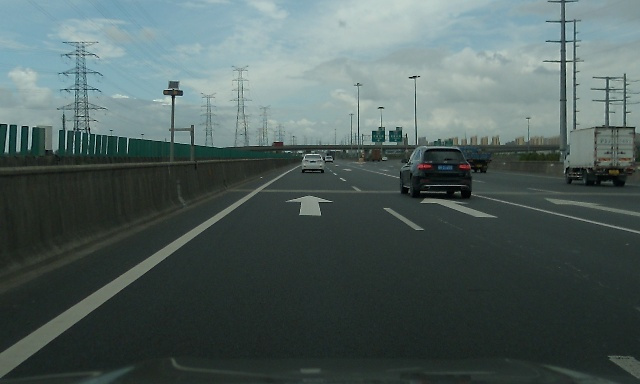car: (399, 146, 472, 199), (301, 154, 325, 173), (325, 156, 333, 163)
truck: (560, 126, 636, 187), (450, 147, 492, 173), (371, 150, 381, 162), (272, 142, 284, 148), (329, 152, 335, 161)
